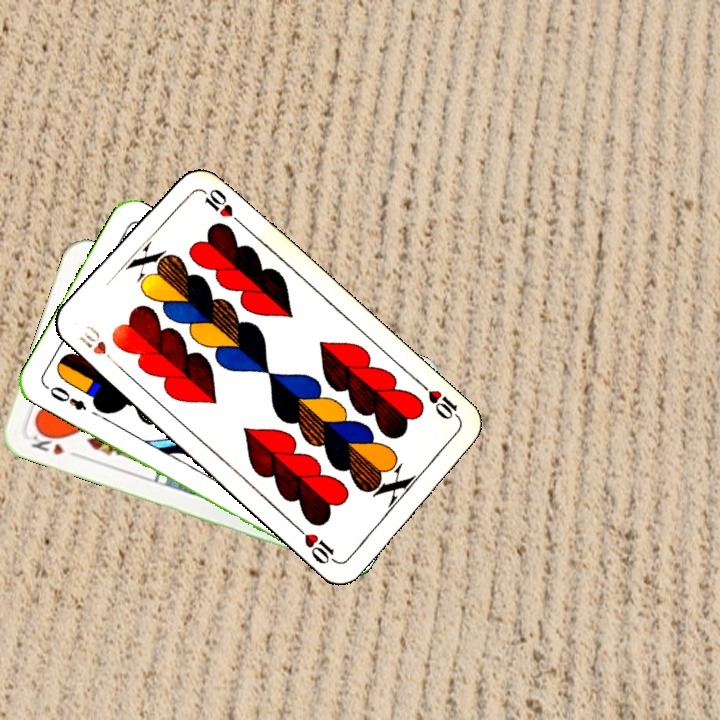EO: (41, 382, 89, 414)
H10: (74, 321, 122, 370), (416, 379, 464, 424)
HK: (27, 426, 82, 461)
